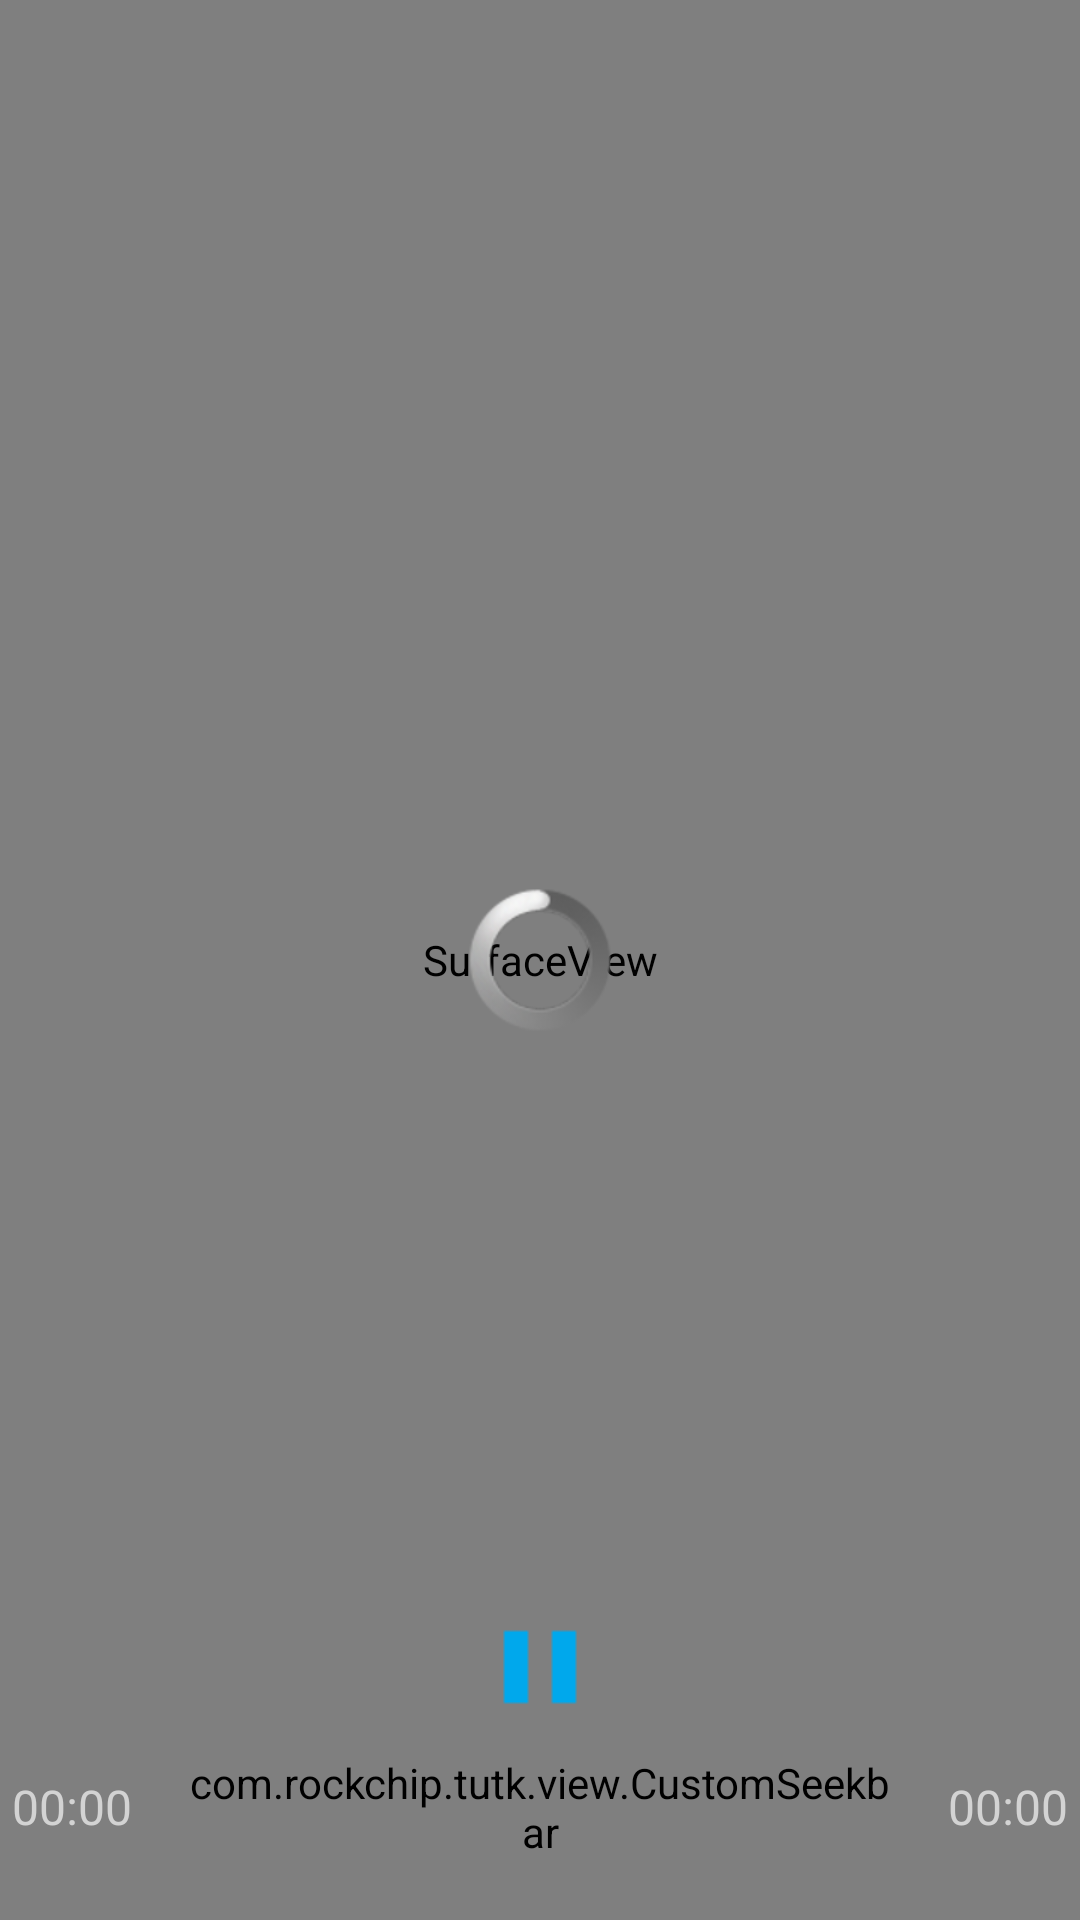

Screen size 1080x1920. Icon name, then its box in pixels as (x1,y1,x2,y2):
pause: (503,1630,577,1704)
